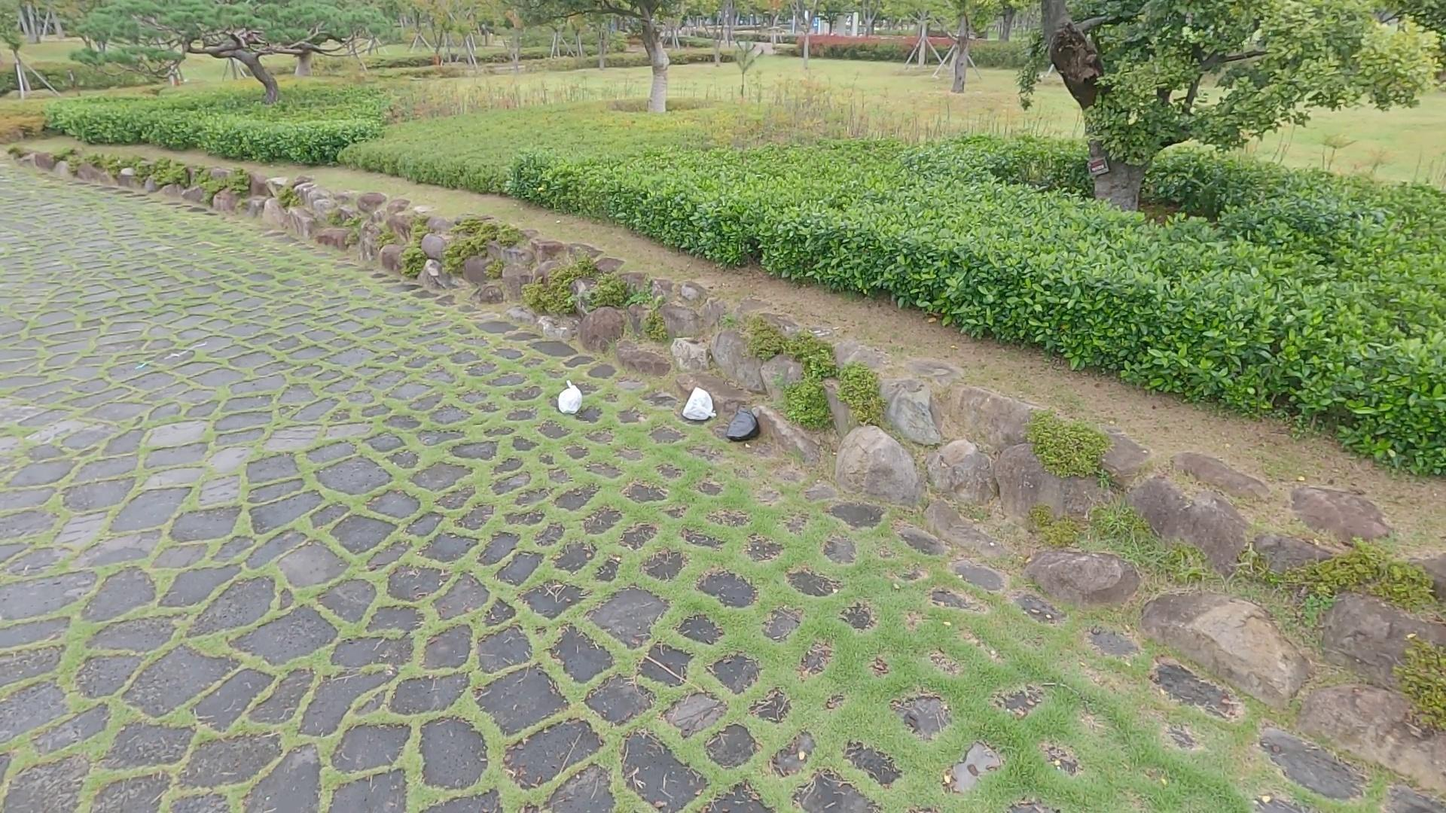trash: (678, 385, 721, 424), (724, 408, 760, 443), (555, 379, 587, 417)
